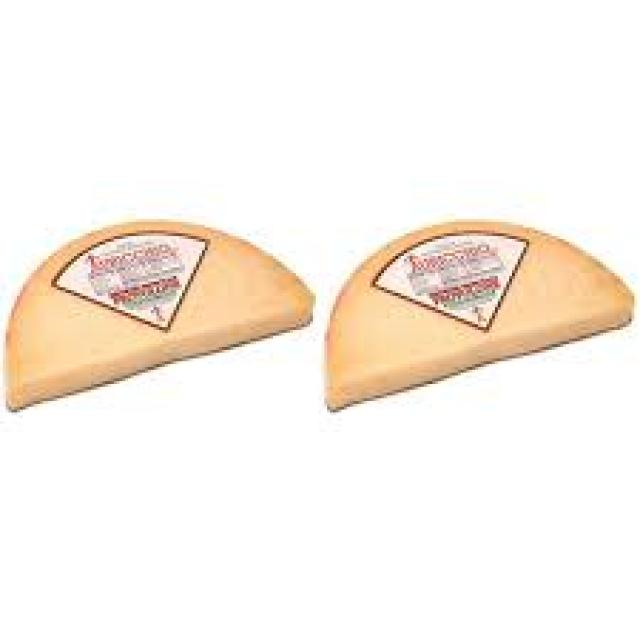cheese: (328, 222, 636, 419), (0, 225, 316, 415)
